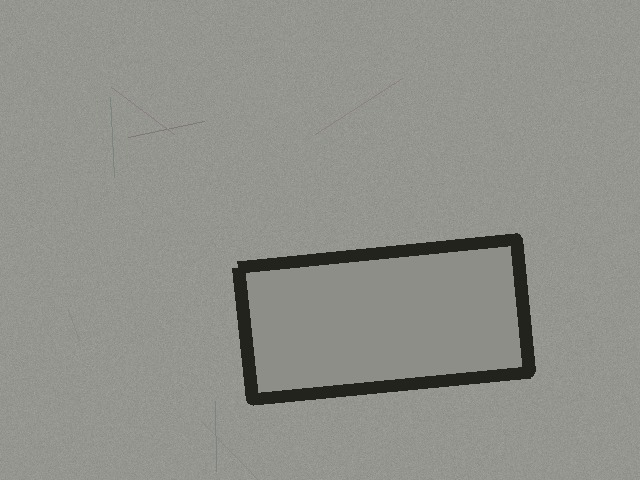parking_area: (238, 239, 529, 399)
